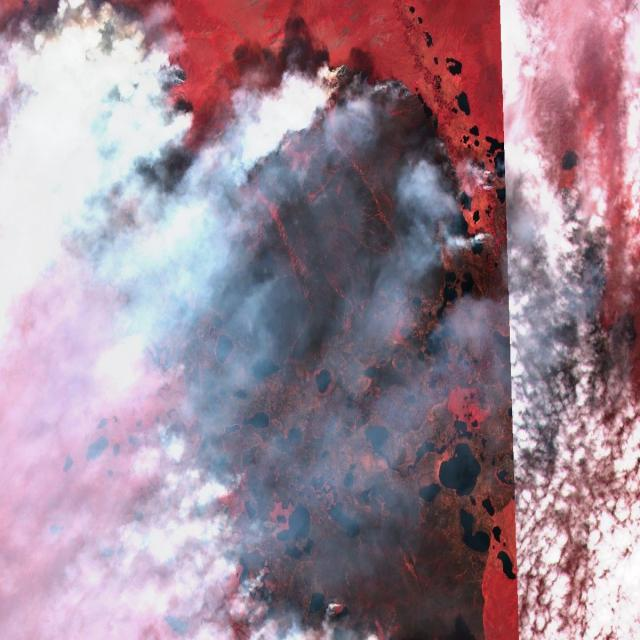fire: (36, 0, 613, 326), (155, 410, 397, 640)
